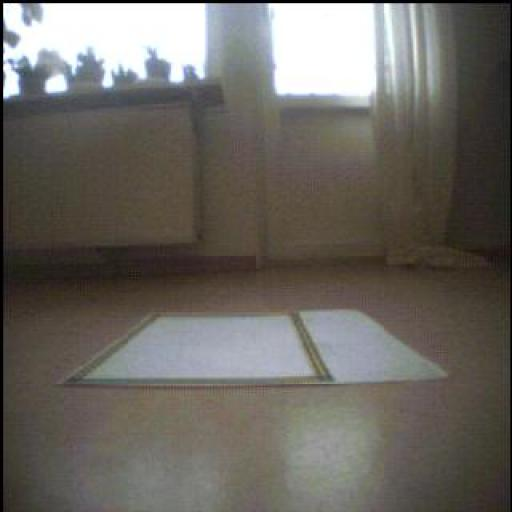Pad: (65, 312, 447, 387)
